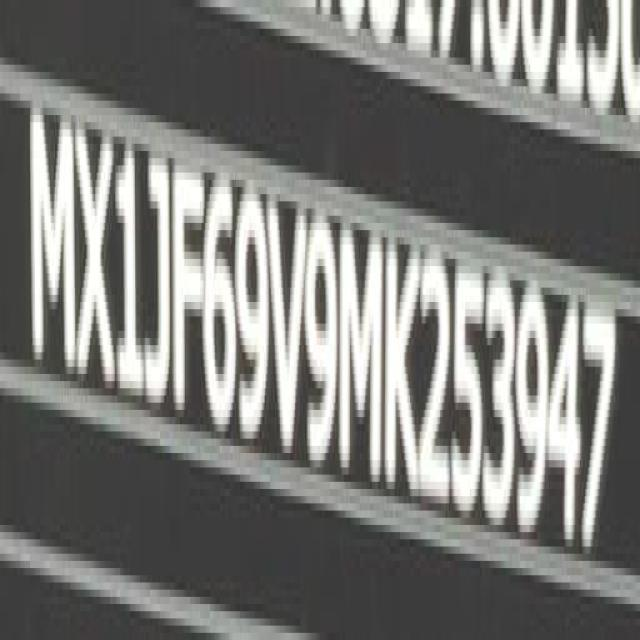1: (115, 131, 143, 402)
2: (420, 249, 453, 517)
3: (484, 271, 515, 534)
4: (552, 294, 584, 553)
5: (454, 256, 485, 519)
6: (205, 166, 238, 436)
7: (584, 300, 622, 574)
9: (304, 217, 339, 480), (237, 183, 271, 449), (517, 283, 550, 540)
F: (175, 156, 208, 427)
J: (144, 147, 174, 417)
K: (388, 238, 423, 504)
M: (26, 103, 75, 390), (341, 221, 386, 492)
V: (272, 193, 307, 464)
X: (77, 116, 118, 397)
